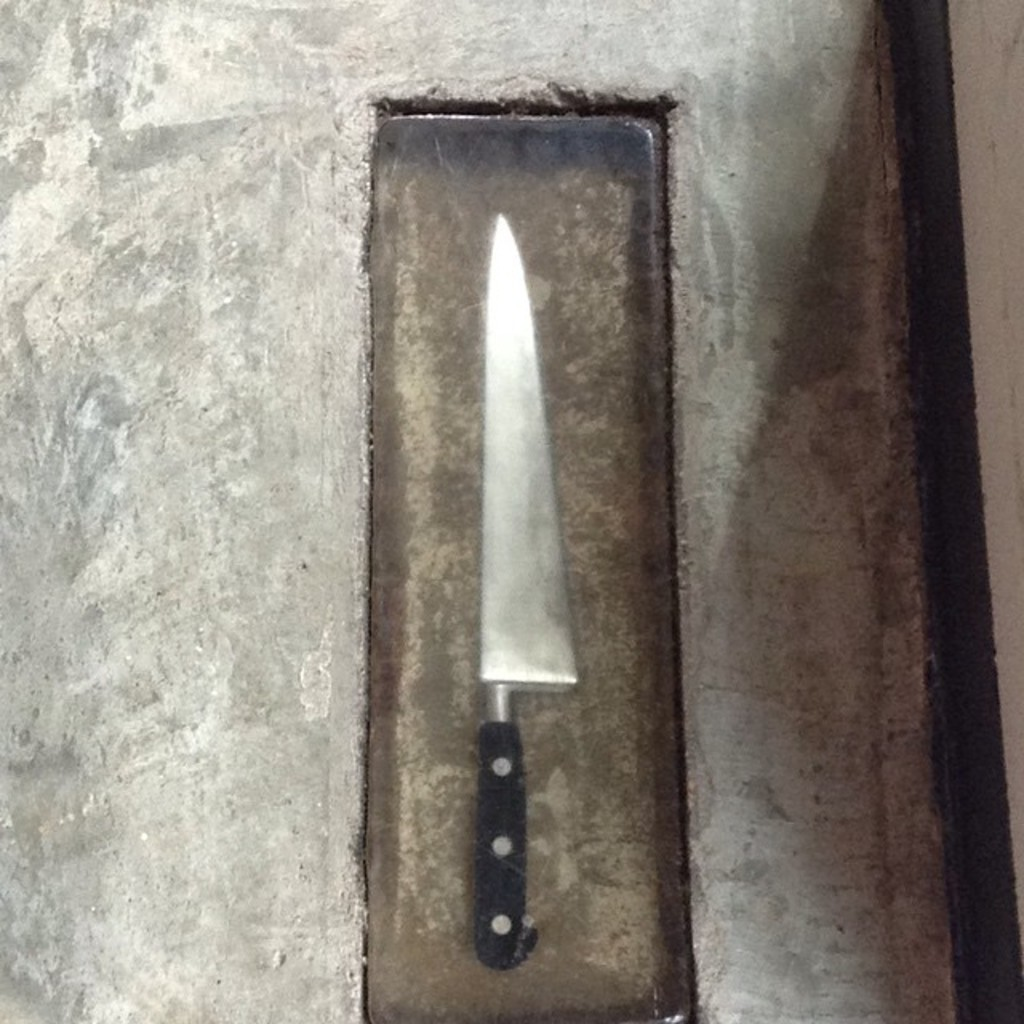kitchen knife: (478, 208, 579, 976)
